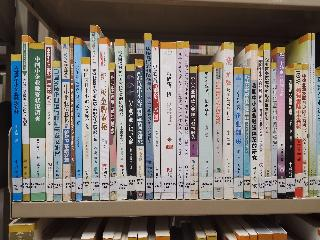book-spine: (160, 41, 178, 201), (94, 36, 111, 202), (28, 42, 45, 202), (196, 65, 214, 200), (113, 39, 127, 201), (247, 44, 261, 199), (87, 22, 99, 202), (19, 33, 31, 202), (10, 52, 23, 203), (42, 37, 53, 203), (143, 34, 154, 200), (60, 38, 71, 202), (124, 64, 137, 200), (134, 60, 146, 200), (212, 60, 224, 200), (66, 36, 76, 202), (73, 37, 83, 202), (189, 65, 201, 200), (152, 41, 162, 201), (181, 42, 191, 201), (174, 42, 184, 200), (81, 58, 92, 201), (224, 44, 234, 199), (50, 61, 61, 201), (233, 68, 244, 199), (107, 63, 117, 201), (278, 47, 287, 199), (263, 43, 271, 200), (257, 50, 265, 200), (285, 68, 294, 197), (271, 63, 279, 200), (294, 63, 302, 198), (301, 64, 309, 198), (311, 33, 317, 197), (307, 34, 313, 197), (244, 68, 250, 199)
